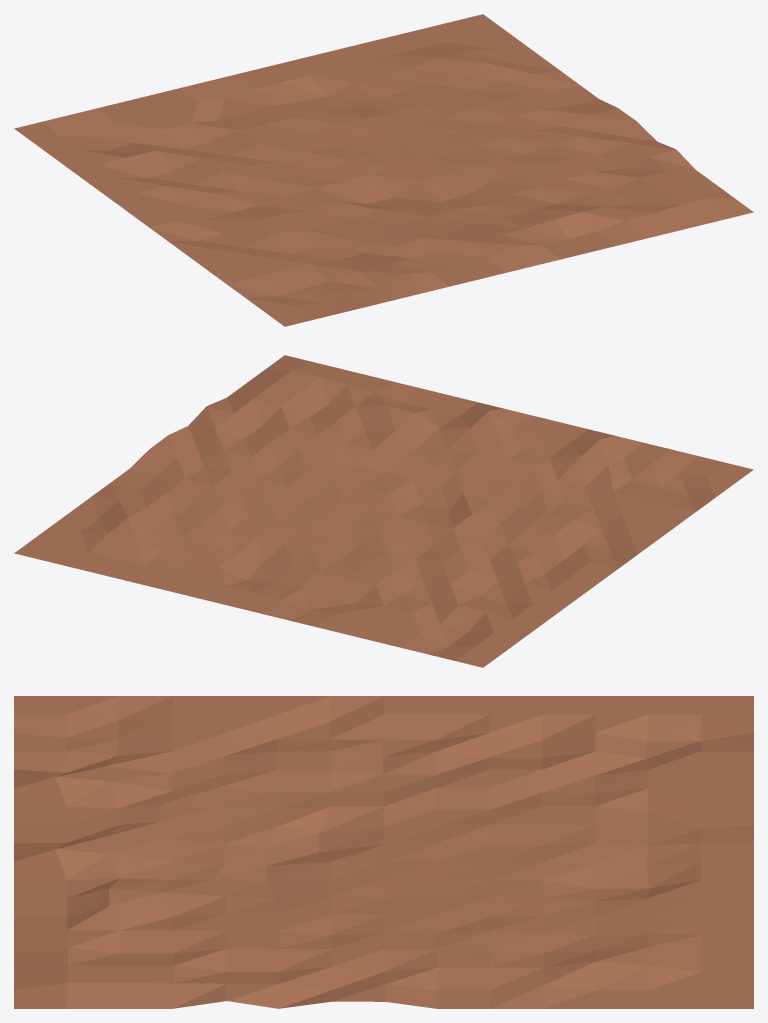
The picture shows the model from 3 angles, top to bottom: view 1: azimuth 30°, elevation 25°; view 2: azimuth 150°, elevation 25°; view 3: azimuth 270°, elevation 25°; orthographic projection. The views are drawn at different scales.
Parts seen in each view (by area): view 1: Plane; view 2: Plane; view 3: Plane.
Boxes of the visible parts, <box> form: Plane: <box>14,14,753,326</box>; Plane: <box>14,355,753,667</box>; Plane: <box>14,696,753,1008</box>.
Size of the model in its own units: 1931 by 64.79 by 1930.
